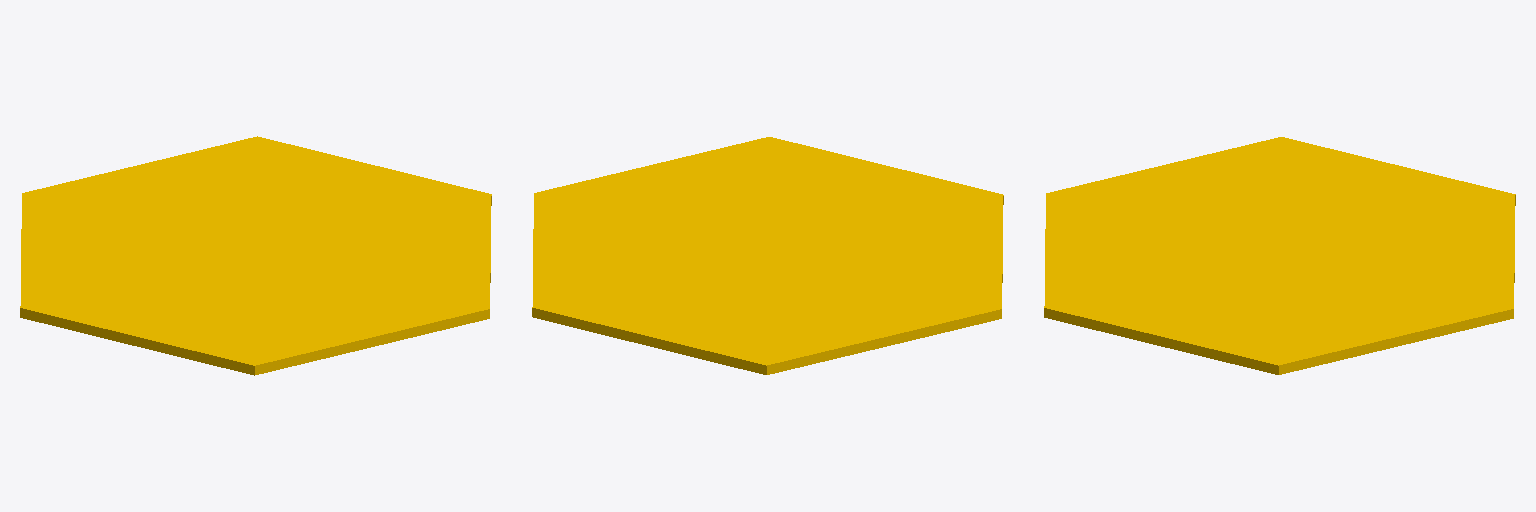
robot.urdf — Hexagon_yellow:
<?xml version="1.0"?>
<!-- created with Phobos 1.0.1 "Capricious Choutengan" -->
  <robot name="Hexagon_yellow">
  
    <material name="yellow">
      <color rgba="1 0.8 0 1"/>
    </material>

    <link name="Untitled">
      <inertial>
        <origin xyz="0 0 0" rpy="0 0 0"/>
        <mass value="0.001"/>
        <inertia ixx="0.001" ixy="0" ixz="0" iyy="0.001" iyz="0" izz="0.001"/>
      </inertial>
      <visual name="Miniaturebase 20151107-25899-Phehsx-0">
        <origin xyz="0 0 0" rpy="0 1.57 0.72"/>
        <geometry>
          <mesh filename="hexagon.stl" scale="0.3 1 1"/>
        </geometry>
        <material name="yellow"/>
      </visual>
    </link>
    
  </robot>

--- Facts derived from the render (not from the file) ---
Views: 3 orthographic renders of the robot side by side, from view 1: azimuth 30°, elevation 25°; view 2: azimuth 150°, elevation 25°; view 3: azimuth 270°, elevation 25°.
Model Hexagon_yellow with 1 links and 0 joints (none), rooted at Untitled, posed every joint at zero.
Links seen in each view (by area): view 1: Untitled; view 2: Untitled; view 3: Untitled.
Boxes of the visible links, x1,y1,x2,y2 form: Untitled: (20,136,491,375); Untitled: (532,137,1003,374); Untitled: (1044,137,1515,374).
Bounding box of the posed robot: 45 × 39.09 × 0.934 m (x, y, z).
Meshes: 1 distinct files referenced, 1 mesh visuals loaded (1 binary STL).
